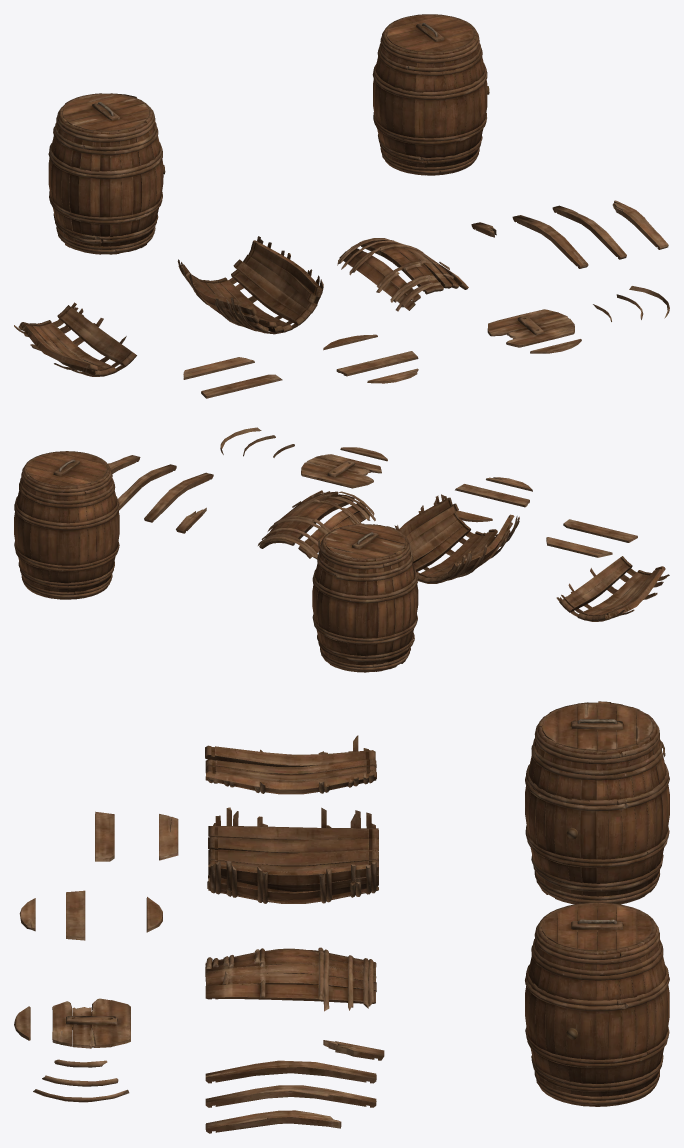
File: wooden_barrels_01.glb
3 renders of one model, top to bottom at view 1: azimuth 30°, elevation 25°; view 2: azimuth 150°, elevation 25°; view 3: azimuth 270°, elevation 25°, orthographic. The views are drawn at different scales.
Parts seen in each view (by area): view 1: wooden_barrels_01_piece01, wooden_barrels_01_barrel02, wooden_barrels_01_barrel01; view 2: wooden_barrels_01_piece01, wooden_barrels_01_barrel02, wooden_barrels_01_barrel01; view 3: wooden_barrels_01_piece01, wooden_barrels_01_barrel01, wooden_barrels_01_barrel02.
Boxes of the visible parts, box(x1,y1,x2,y2) form: wooden_barrels_01_piece01: box(14, 200, 669, 398); wooden_barrels_01_barrel02: box(48, 93, 165, 254); wooden_barrels_01_barrel01: box(372, 14, 489, 175); wooden_barrels_01_piece01: box(108, 427, 669, 621); wooden_barrels_01_barrel02: box(312, 523, 418, 672); wooden_barrels_01_barrel01: box(14, 451, 119, 599); wooden_barrels_01_piece01: box(14, 735, 384, 1133); wooden_barrels_01_barrel01: box(525, 902, 669, 1106); wooden_barrels_01_barrel02: box(525, 701, 669, 904).
Size of the model in its own units: 4.44 by 0.9543 by 3.34.
Materials: 3 (3 with a texture image).
